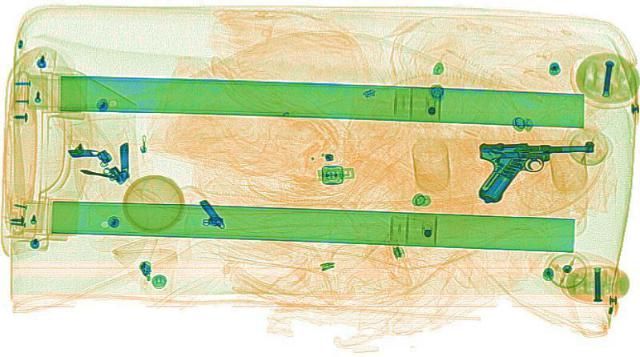Gun: (473, 140, 599, 201)
